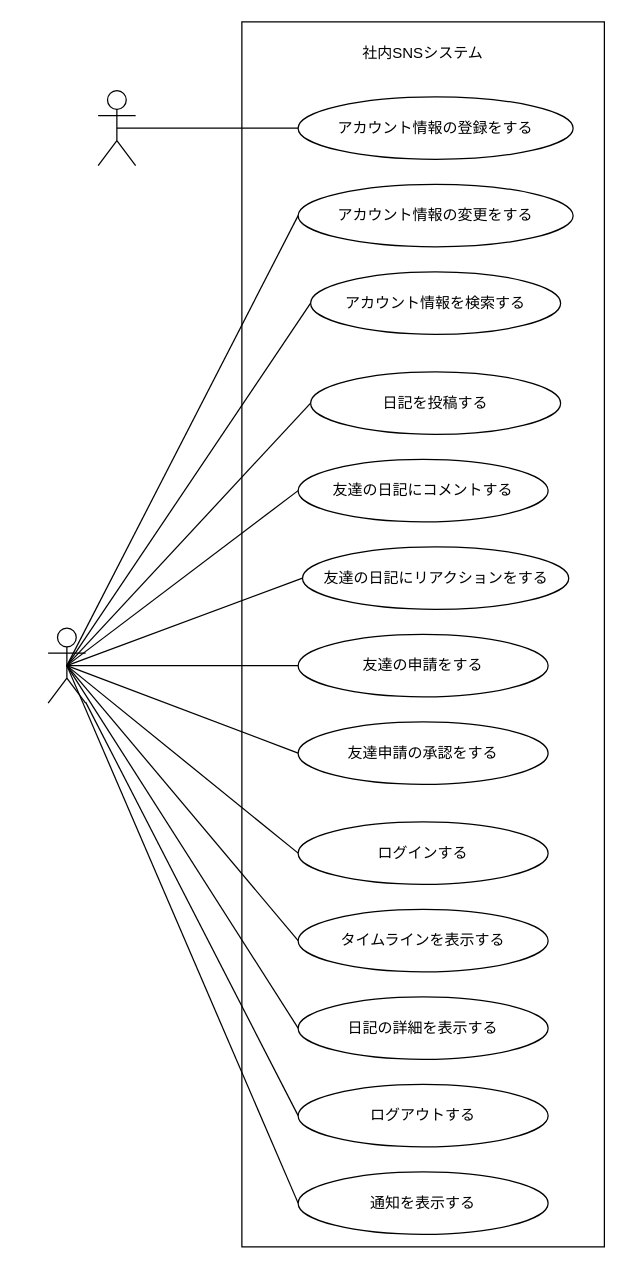
Image size: 626x1269. Some labels were removed from this diagram. Here are the shapes that lost their labels. From the top down, the centre of each, then its label:
At (116,127): "未登録ユーザ".
At (66,665): "登録済ユーザ".
